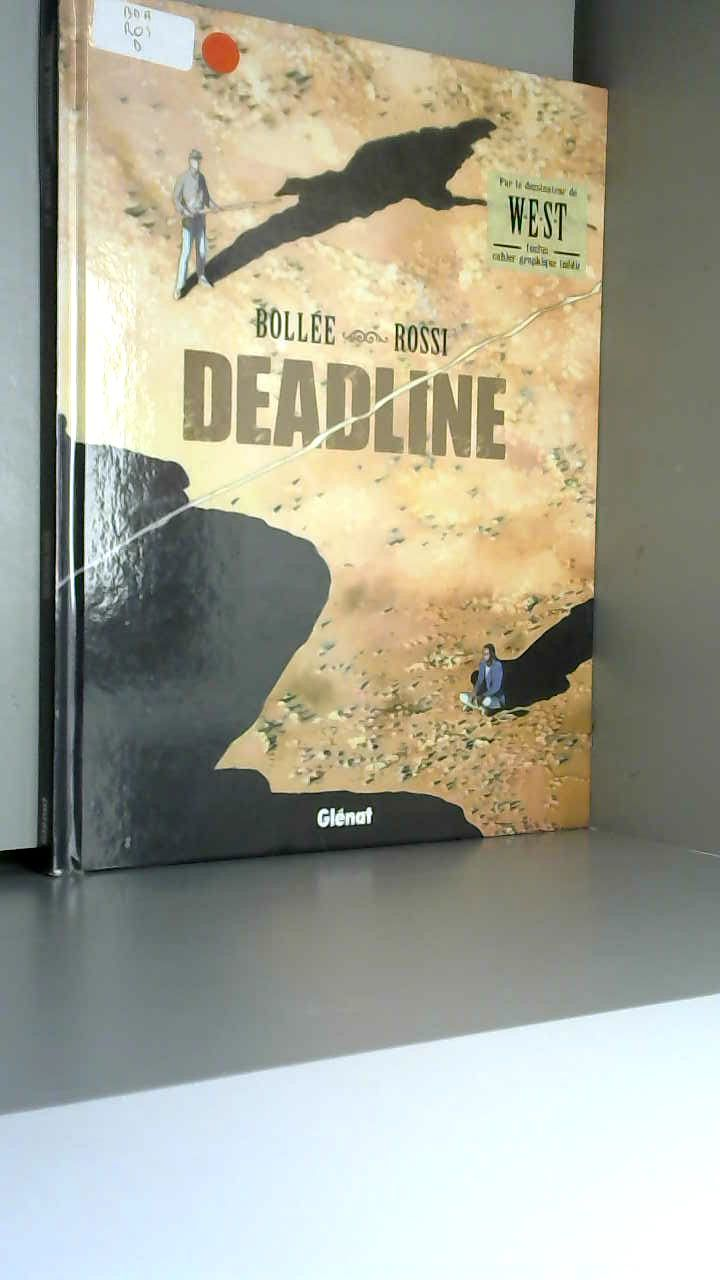book: (10, 0, 720, 913)
